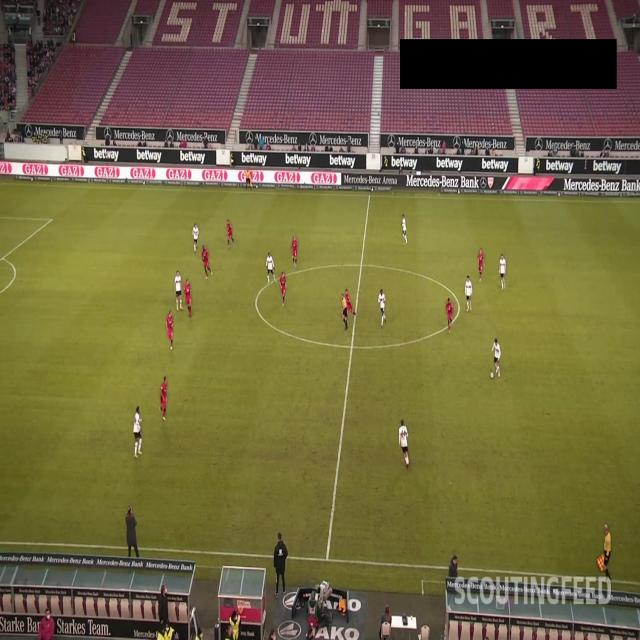ball: (488, 370, 496, 384)
f_player: (156, 364, 173, 432), (132, 406, 144, 462), (399, 422, 411, 469), (445, 298, 457, 333), (278, 272, 290, 306), (378, 288, 388, 327), (500, 254, 510, 292), (172, 276, 182, 314), (200, 247, 212, 278), (465, 278, 475, 314), (492, 338, 502, 372), (165, 314, 174, 350), (265, 254, 275, 282), (400, 216, 409, 246), (291, 237, 300, 266), (226, 221, 236, 247), (344, 287, 351, 323), (477, 251, 485, 279), (192, 224, 200, 252)
umpire: (342, 292, 347, 331)
